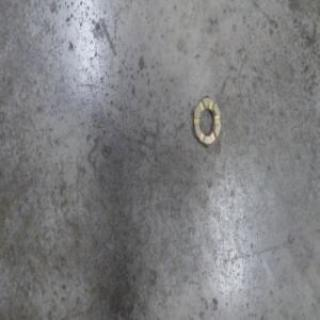Nuttrack_idkeyframe: (192, 92, 220, 149)
